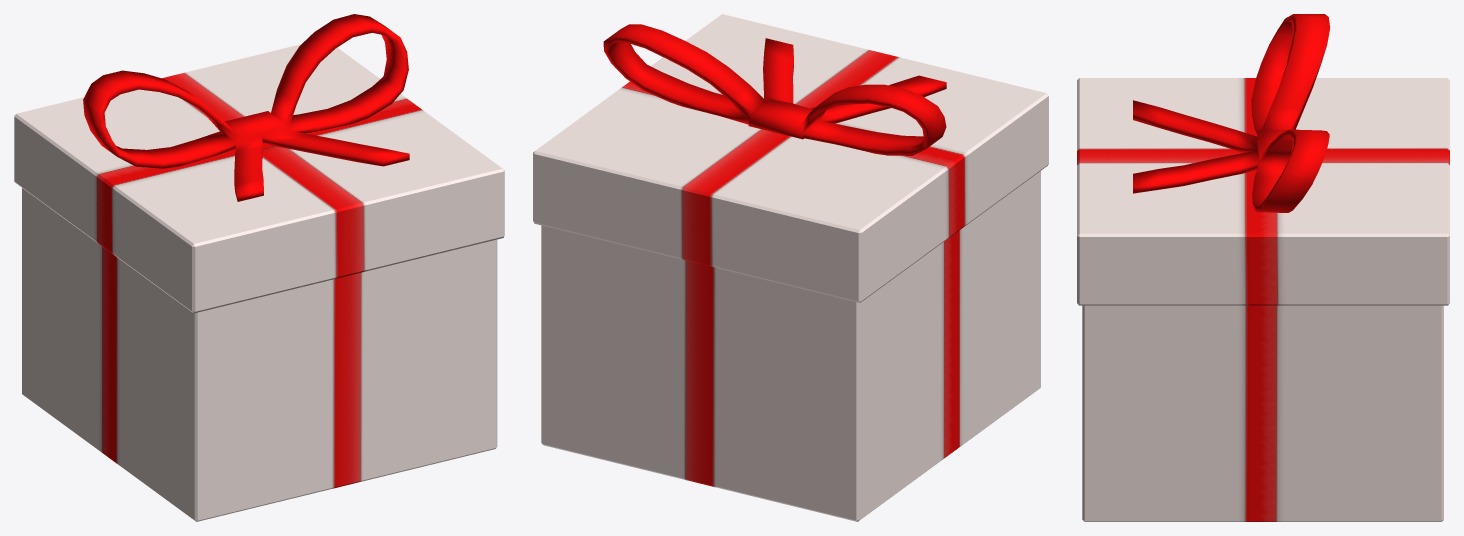
File: Gift.fbx
The picture shows the model from 3 angles, left to right: view 1: azimuth 30°, elevation 25°; view 2: azimuth 150°, elevation 25°; view 3: azimuth 270°, elevation 25°; orthographic projection. The views are drawn at different scales.
Parts seen in each view (by area): view 1: Gift, Gift2; view 2: Gift, Gift2; view 3: Gift2, Gift.
Boxes of the visible parts, box(x1,y1,x2,y2) form: Gift: box(22, 188, 497, 521); Gift2: box(14, 14, 504, 313); Gift: box(541, 171, 1040, 521); Gift2: box(533, 14, 1048, 302); Gift2: box(1077, 14, 1449, 305); Gift: box(1082, 305, 1443, 521).
Size of the model in its own units: 15.49 by 16.79 by 15.45.
1 material, 1 textured.
